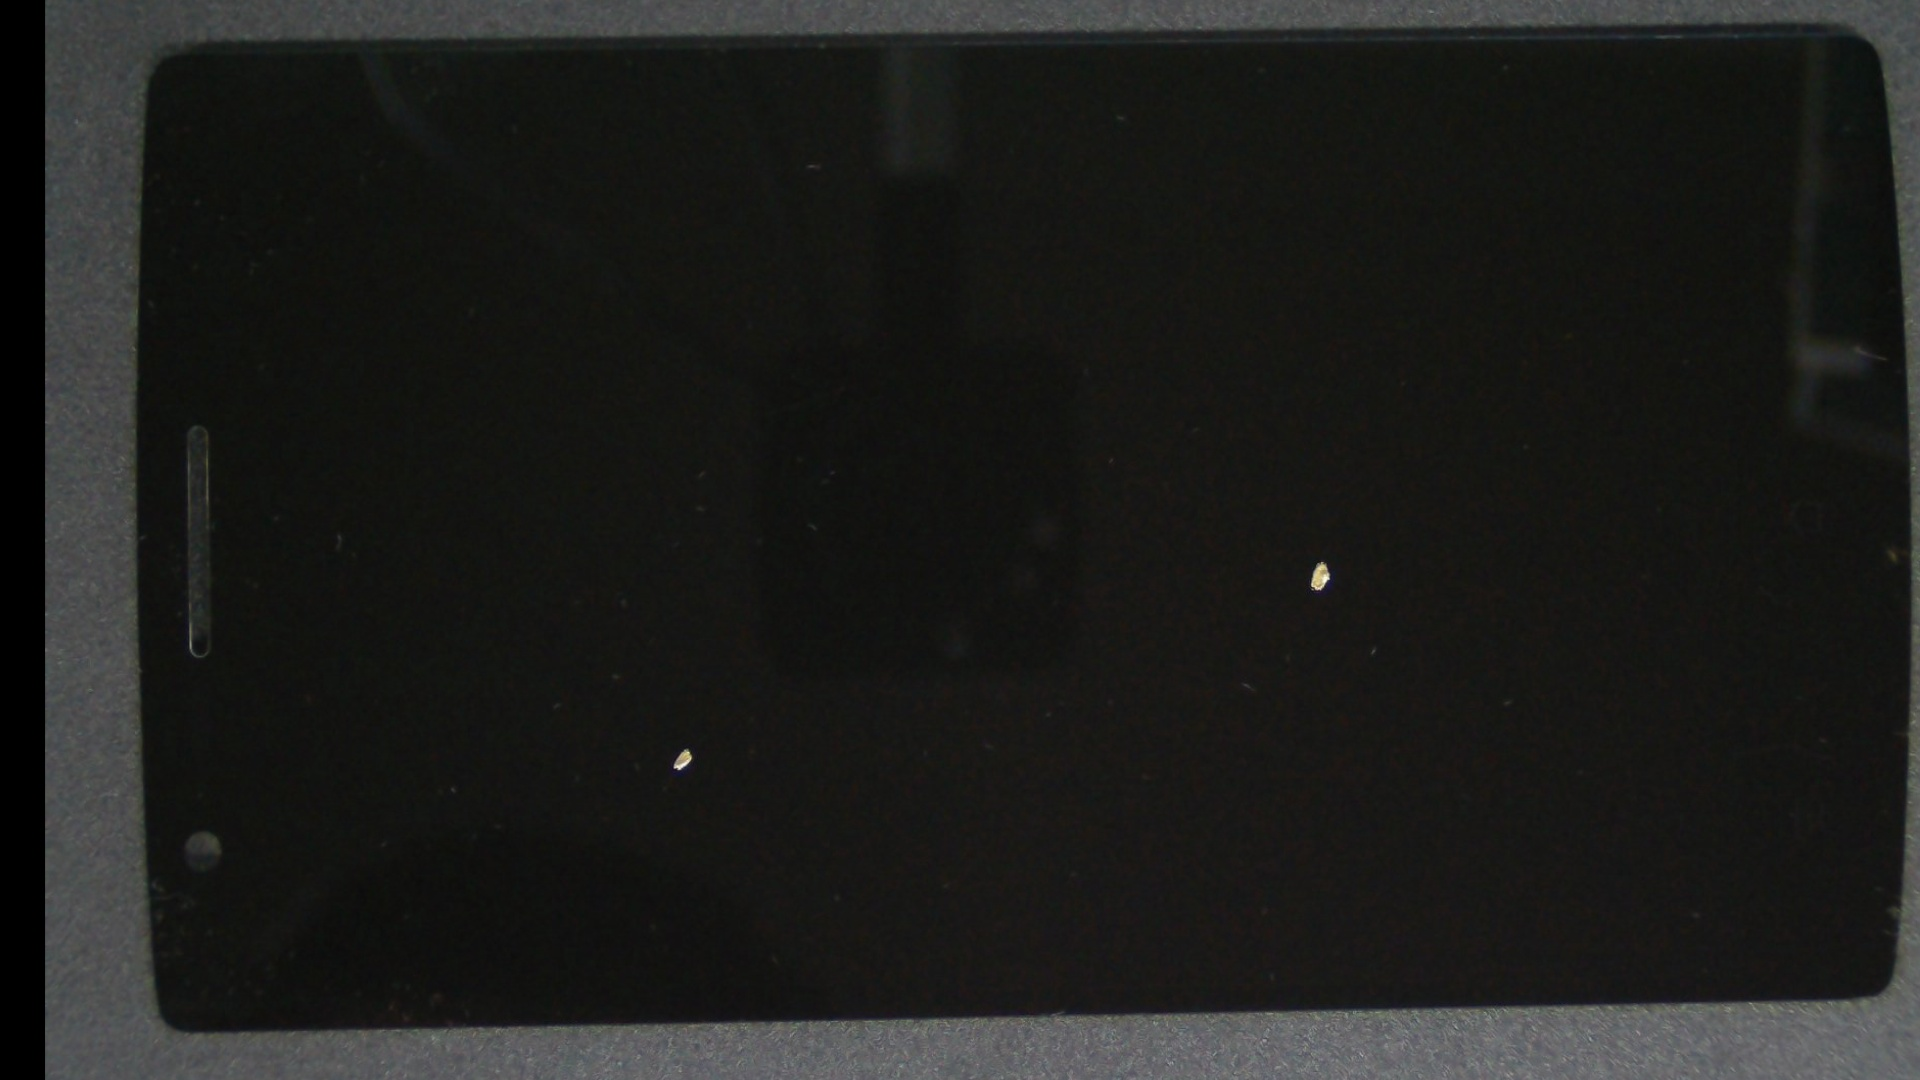oil: (683, 227, 1920, 893), (367, 322, 1009, 1080)
